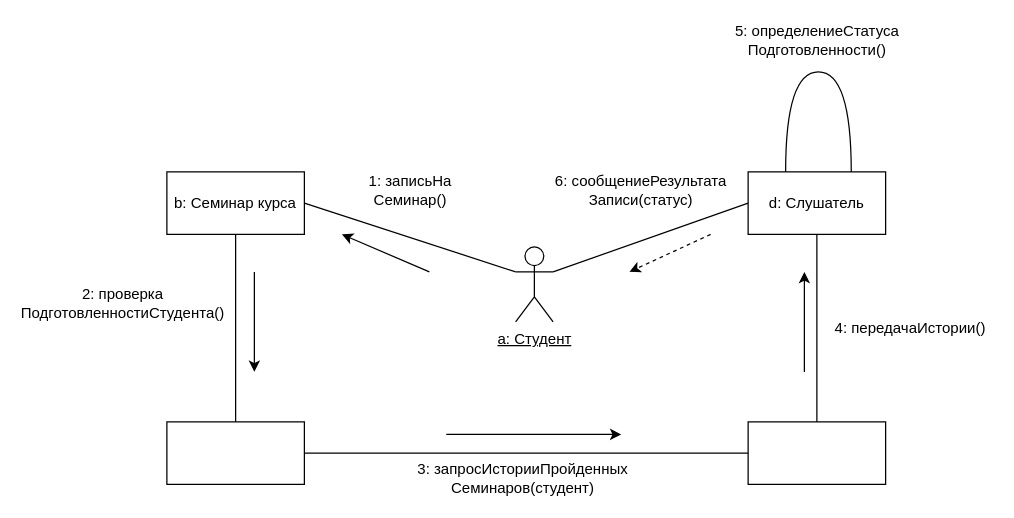
Image size: 1014x518. Some labels were removed from this diagram. The shapes that lost their labels are listed below. From the top down, each one's centre as x and y in pixels, then its label:
At point (235, 452): "c: Учебный отдел".
At point (816, 452): ": История пройденных семинаров".
